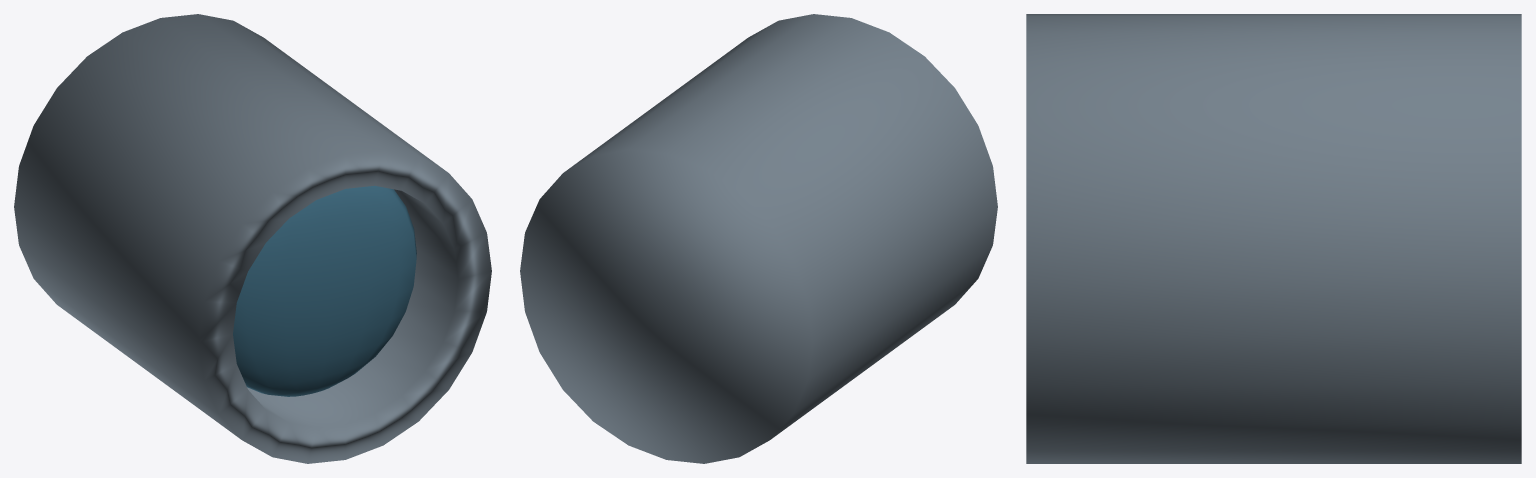
The model's file is curiosity_mast.deployment.azimuth.head.navcam_l.glb.
The picture shows the model from 3 angles, left to right: view 1: azimuth 30°, elevation 25°; view 2: azimuth 150°, elevation 25°; view 3: azimuth 270°, elevation 25°; orthographic projection. The views are drawn at different scales.
Parts seen in each view (by area): view 1: curiosity_mast.deployment.azimuth.head.navcam_l.mesh_Machine, curiosity_mast.deployment.azimuth.head.navcam_l.lens.mesh_Co; view 2: curiosity_mast.deployment.azimuth.head.navcam_l.mesh_Machine; view 3: curiosity_mast.deployment.azimuth.head.navcam_l.mesh_Machine.
Boxes of the visible parts, bbox=[...] form: curiosity_mast.deployment.azimuth.head.navcam_l.mesh_Machine: bbox=[14, 14, 491, 463]; curiosity_mast.deployment.azimuth.head.navcam_l.lens.mesh_Co: bbox=[233, 185, 416, 396]; curiosity_mast.deployment.azimuth.head.navcam_l.mesh_Machine: bbox=[520, 14, 997, 463]; curiosity_mast.deployment.azimuth.head.navcam_l.mesh_Machine: bbox=[1026, 14, 1521, 463].
Size of the model in its own units: 0.052 by 0.052 by 0.057.
